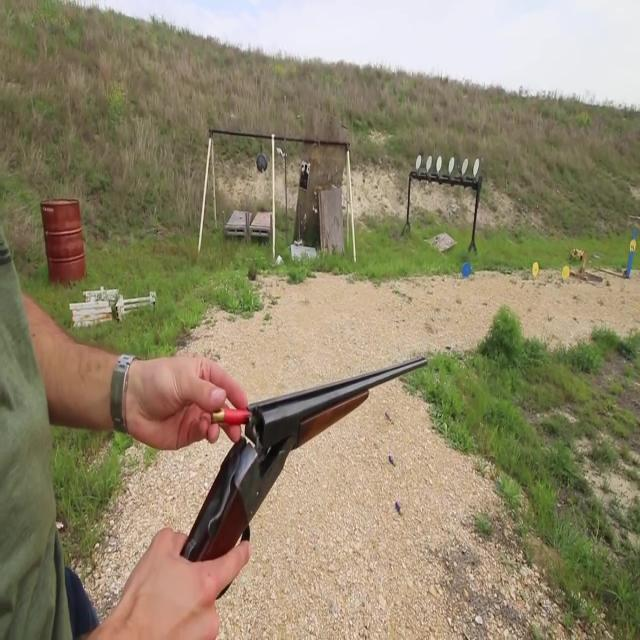Weapon: (120, 334, 483, 574)
